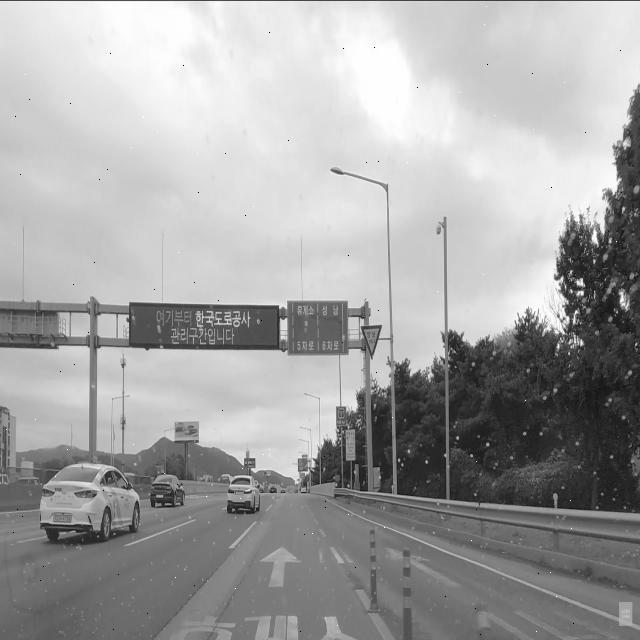forward: (172, 538, 368, 598)
